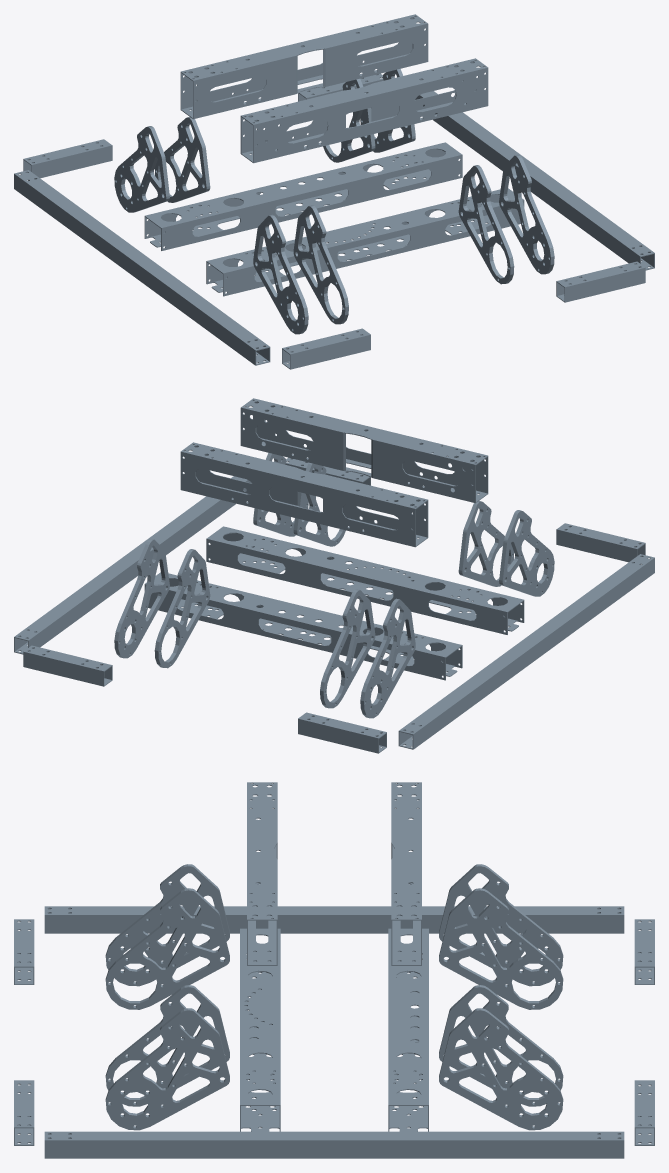
The model's file is hero.glb.
The picture shows the model from 3 angles, top to bottom: view 1: azimuth 30°, elevation 25°; view 2: azimuth 150°, elevation 25°; view 3: azimuth 270°, elevation 25°; orthographic projection. The views are drawn at different scales.
Visible parts, largest first — view 1: hero_chassis; view 2: hero_chassis; view 3: hero_chassis.
Boxes of the visible parts, left/top/right/bottom form: hero_chassis: left=14, top=14, right=654, bottom=369; hero_chassis: left=14, top=398, right=654, bottom=753; hero_chassis: left=14, top=782, right=654, bottom=1158.
Bounding box in the file's own units: 544 × 224 × 630.
